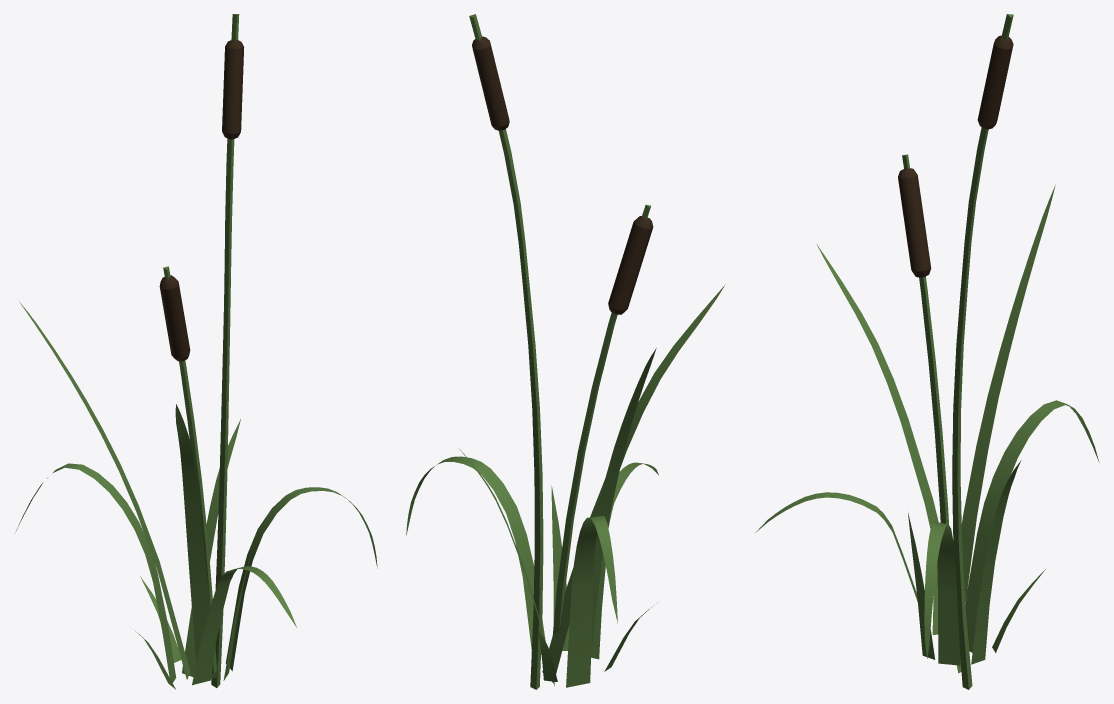
File: plant_cattail_D.fbx
The picture shows the model from 3 angles, left to right: view 1: azimuth 30°, elevation 25°; view 2: azimuth 150°, elevation 25°; view 3: azimuth 270°, elevation 25°; orthographic projection. The views are drawn at different scales.
Parts seen in each view (by area): view 1: plant_cattail_D_twig_A, plant_cattail_D_leaf_B, plant_cattail_D_leaf_D, plant_cattail_D_leaf_C, plant_cattail_D_leaf_A, plant_cattail_D_flower_A, plant_cattail_D_twig_B, plant_cattail_D_leaf_F, plant_cattail_D_flower_B, plant_cattail_D_leaf_H; view 2: plant_cattail_D_twig_A, plant_cattail_D_leaf_C, plant_cattail_D_twig_B, plant_cattail_D_leaf_F, plant_cattail_D_leaf_B, plant_cattail_D_leaf_A, plant_cattail_D_flower_B, plant_cattail_D_flower_A, plant_cattail_D_leaf_D, plant_cattail_D_leaf_I, plant_cattail_D_leaf_G; view 3: plant_cattail_D_twig_A, plant_cattail_D_leaf_A, plant_cattail_D_leaf_F, plant_cattail_D_leaf_C, plant_cattail_D_leaf_B, plant_cattail_D_flower_B, plant_cattail_D_twig_B, plant_cattail_D_leaf_H, plant_cattail_D_flower_A, plant_cattail_D_leaf_D, plant_cattail_D_leaf_I.
Boxes of the visible parts, x1,y1,x2,y2 form: plant_cattail_D_twig_A: (211,14,239,687); plant_cattail_D_leaf_B: (175,404,218,678); plant_cattail_D_leaf_D: (192,566,296,685); plant_cattail_D_leaf_C: (16,463,176,682); plant_cattail_D_leaf_A: (19,301,190,679); plant_cattail_D_flower_A: (222,39,244,139); plant_cattail_D_twig_B: (163,266,216,673); plant_cattail_D_leaf_F: (226,487,377,671); plant_cattail_D_flower_B: (159,275,190,361); plant_cattail_D_leaf_H: (182,419,240,676); plant_cattail_D_twig_A: (469,14,543,689); plant_cattail_D_leaf_C: (566,516,617,687); plant_cattail_D_twig_B: (552,204,650,635); plant_cattail_D_leaf_F: (406,456,545,654); plant_cattail_D_leaf_B: (542,284,725,682); plant_cattail_D_leaf_A: (591,348,656,650); plant_cattail_D_flower_B: (608,216,653,314); plant_cattail_D_flower_A: (472,36,509,130); plant_cattail_D_leaf_D: (591,462,658,659); plant_cattail_D_leaf_I: (551,486,569,650); plant_cattail_D_leaf_G: (538,629,557,681); plant_cattail_D_twig_A: (952,14,1013,689); plant_cattail_D_leaf_A: (961,185,1055,602); plant_cattail_D_leaf_F: (924,522,960,665); plant_cattail_D_leaf_C: (965,400,1099,652); plant_cattail_D_leaf_B: (817,245,961,673); plant_cattail_D_flower_B: (898,168,931,277); plant_cattail_D_twig_B: (902,154,948,523); plant_cattail_D_leaf_H: (971,460,1021,664); plant_cattail_D_flower_A: (977,35,1013,129); plant_cattail_D_leaf_D: (755,492,917,602); plant_cattail_D_leaf_I: (908,513,935,659).
Size of the model in its own units: 92.16 by 191 by 86.
